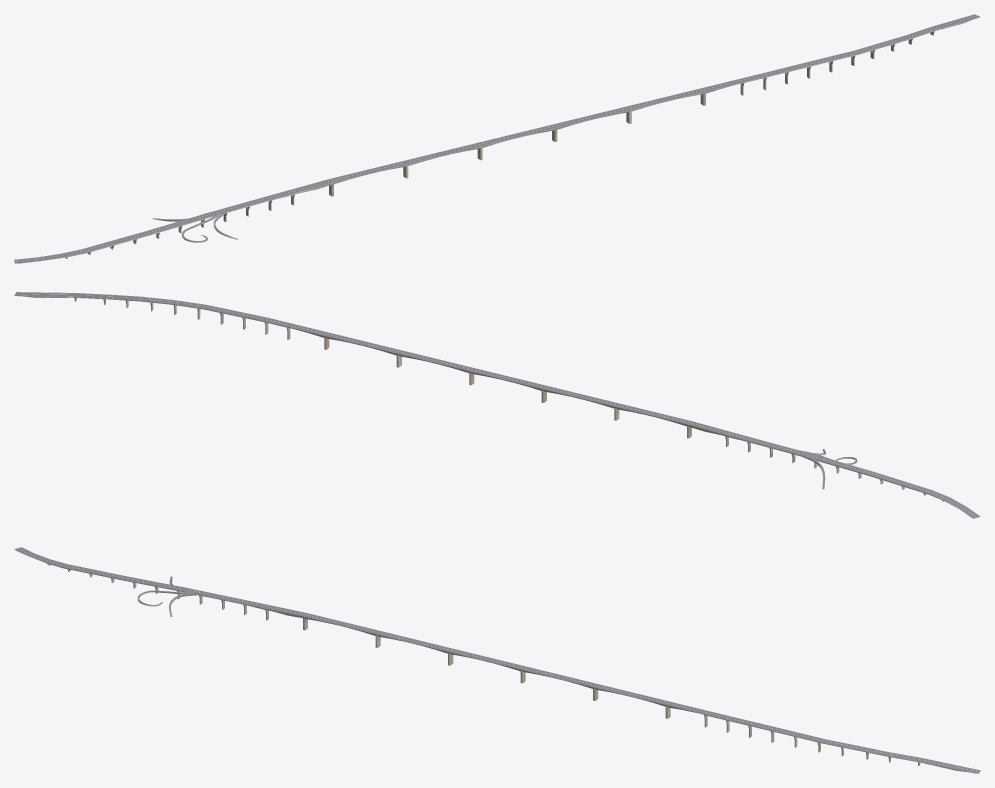
The picture shows the model from 3 angles, top to bottom: view 1: azimuth 30°, elevation 25°; view 2: azimuth 150°, elevation 25°; view 3: azimuth 330°, elevation 25°; orthographic projection. The views are drawn at different scales.
Parts seen in each view (by area): view 1: HN695___Cau_Vinh_Tuy; view 2: HN695___Cau_Vinh_Tuy; view 3: HN695___Cau_Vinh_Tuy.
Part boxes in pixels (x1,y1,x2,y2): HN695___Cau_Vinh_Tuy: (14,14,980,263); HN695___Cau_Vinh_Tuy: (14,292,980,518); HN695___Cau_Vinh_Tuy: (14,547,980,773).
Bounding box in the file's own units: 4259 × 61.1 × 353.
Materials: 1 (1 with a texture image).
